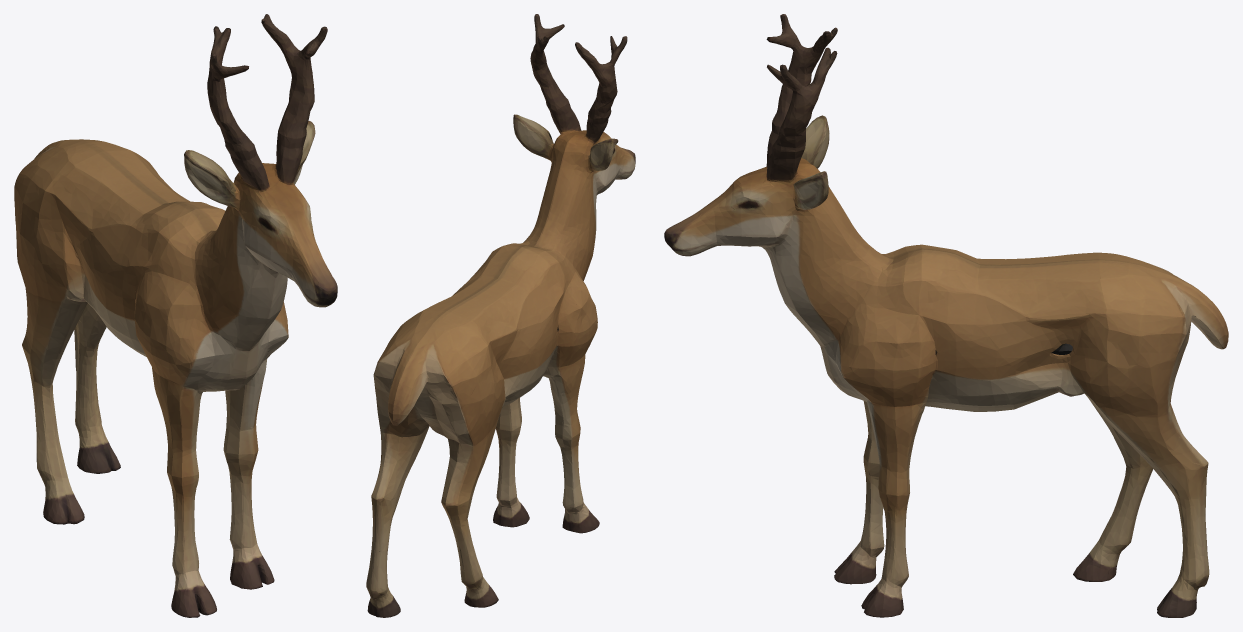
The picture shows the model from 3 angles, left to right: view 1: azimuth 30°, elevation 25°; view 2: azimuth 150°, elevation 25°; view 3: azimuth 270°, elevation 25°; orthographic projection. The views are drawn at different scales.
Visible parts, largest first — view 1: world; view 2: world; view 3: world.
Part boxes in pixels (x1=…): world: x1=14, y1=14, x2=337, y2=617; world: x1=366, y1=14, x2=635, y2=617; world: x1=664, y1=14, x2=1228, y2=617.
Bounding box in the file's own units: 0.2306 × 1 × 0.9242.
Materials: 1 (1 with a texture image).
